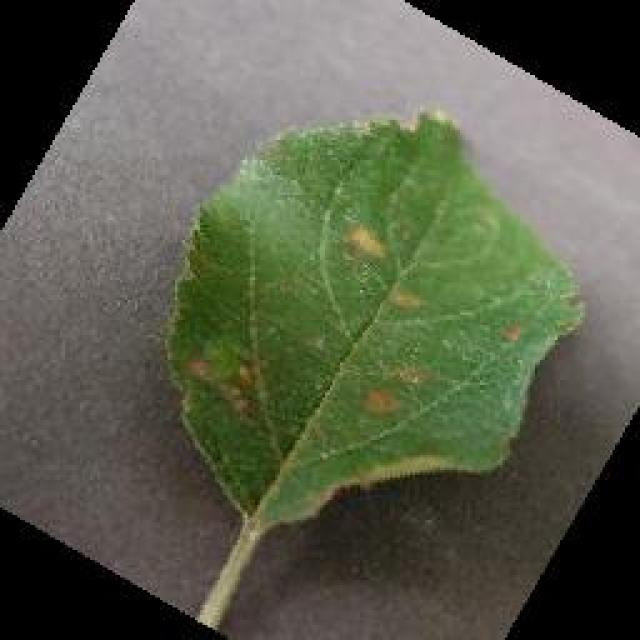apple cedar apple rust: (160, 105, 588, 530)
